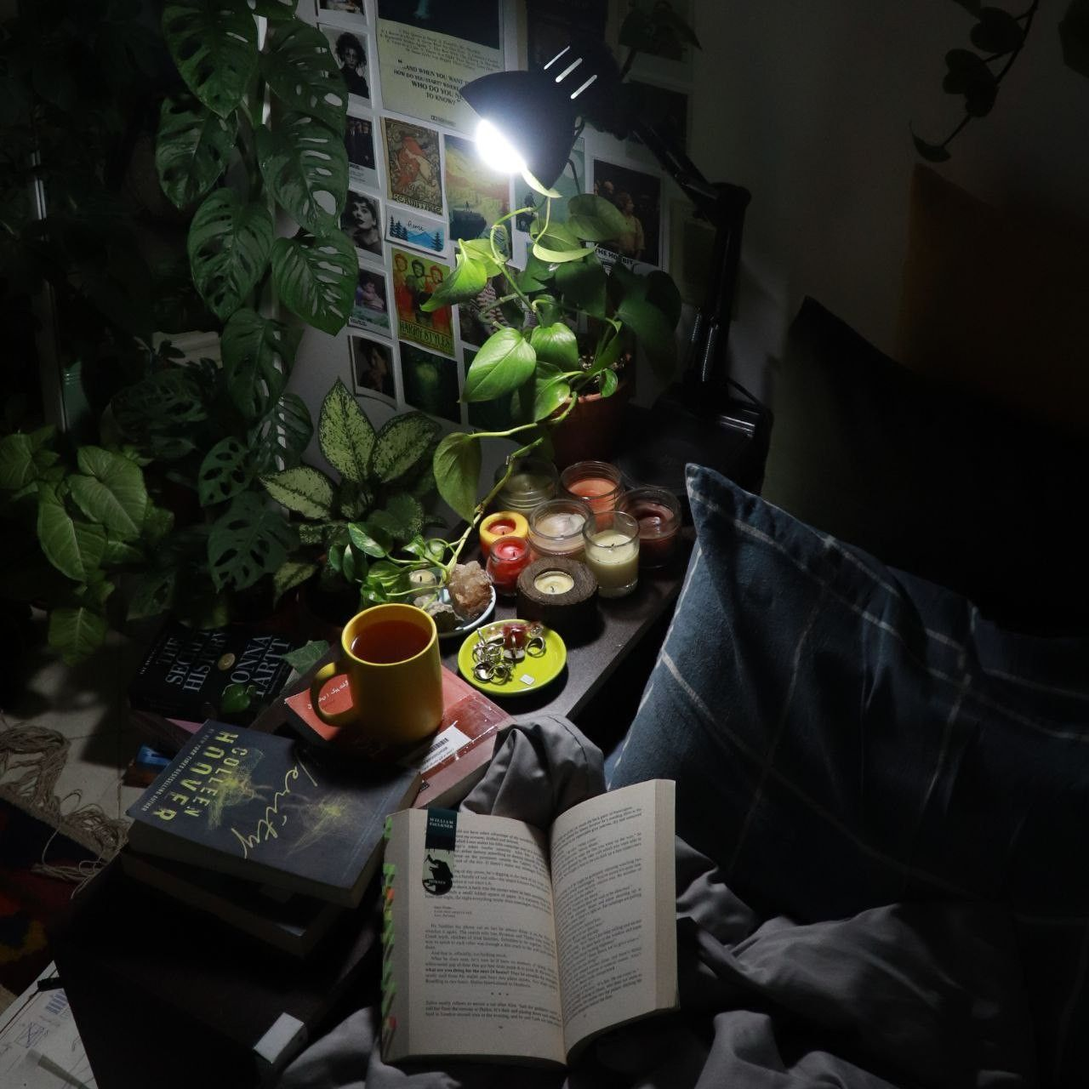not a gesture sign: (173, 18, 854, 294)
